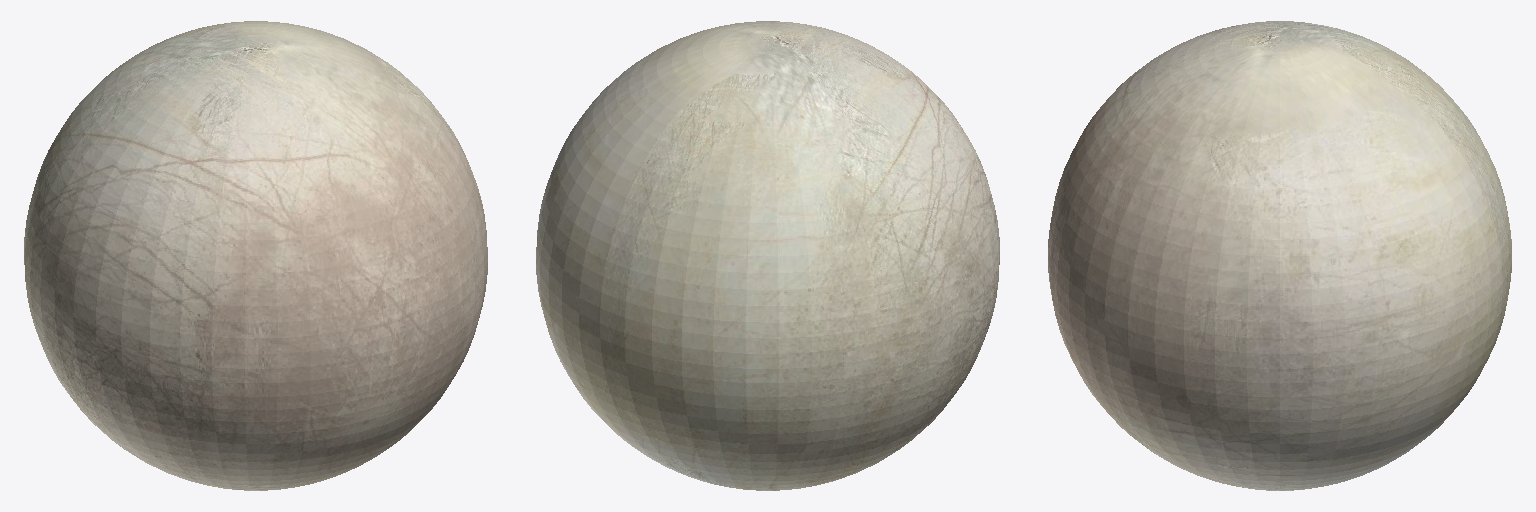
The picture shows the model from 3 angles: view 1: azimuth 30°, elevation 25°; view 2: azimuth 150°, elevation 25°; view 3: azimuth 270°, elevation 25°; orthographic projection.
Parts seen in each view (by area): view 1: europa; view 2: europa; view 3: europa.
Boxes of the visible parts, box(x1,y1,x2,y2) form: europa: box(24, 21, 487, 490); europa: box(536, 21, 999, 490); europa: box(1048, 21, 1511, 490).
Bounding box in the file's own units: 4.92 × 4.97 × 4.92.
1 materials, 1 textured.